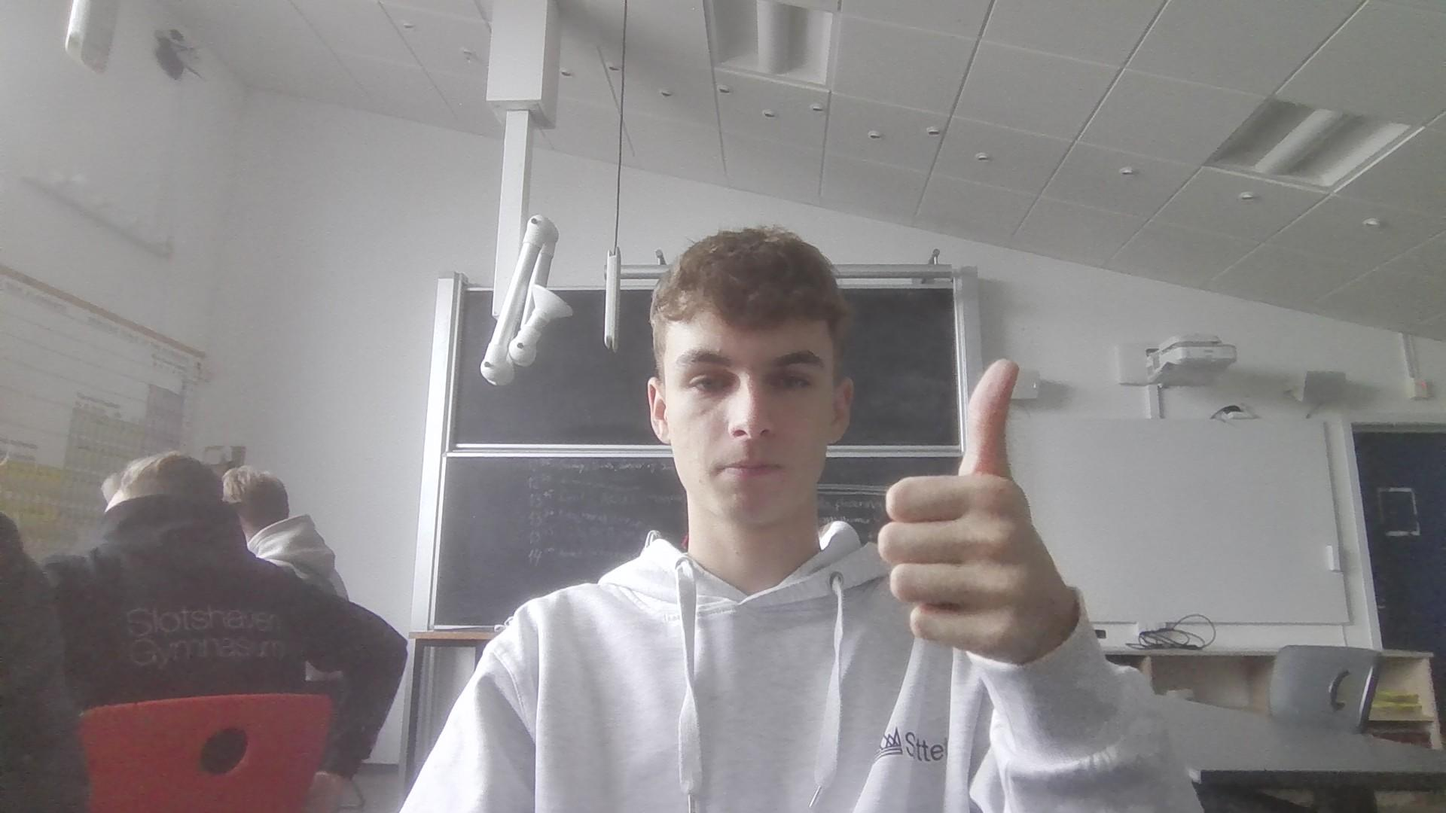thumbs up: (875, 347, 1077, 667)
